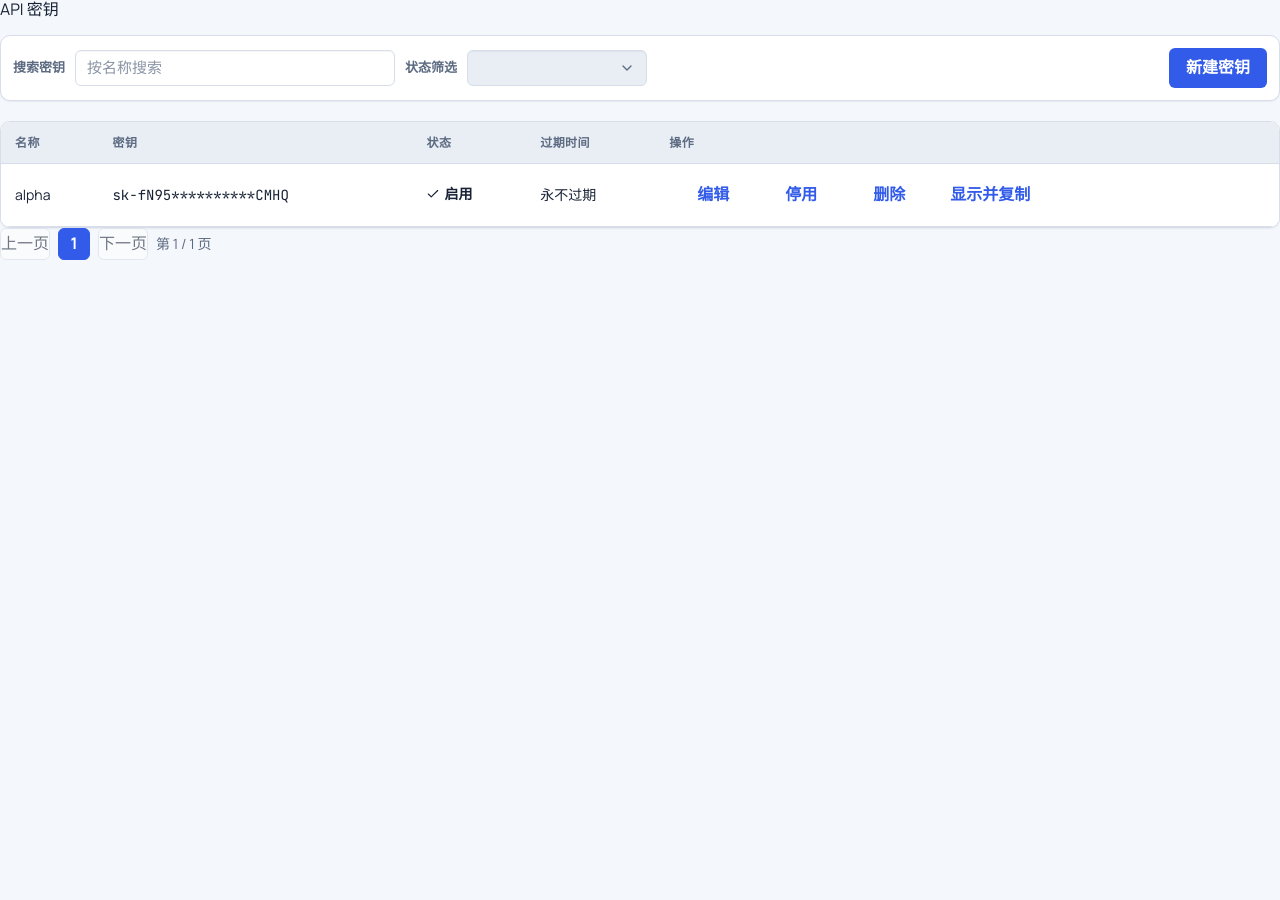
Test: API Key 创建与编辑对话 › 创建成功清除筛选回第一页并只提示一次
Check: the text "alpha" is shown, box x1=1 y1=164 x2=98 y2=227
Click the button "新建密钥" at (1218, 68), box x1=1169 y1=48 x2=1267 y2=88
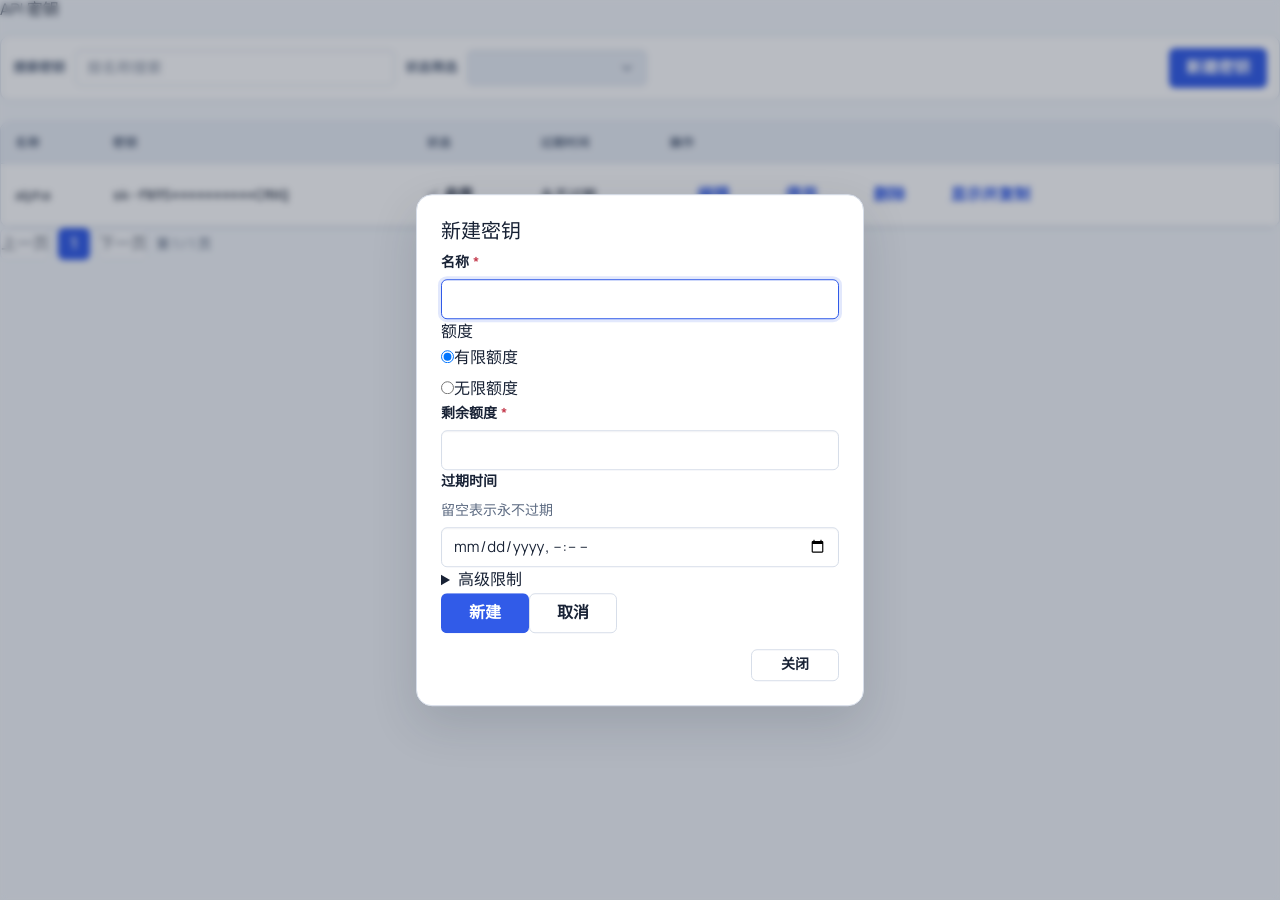
Type "beta" into the field labelled "名称" at (640, 299), box x1=441 y1=279 x2=839 y2=319
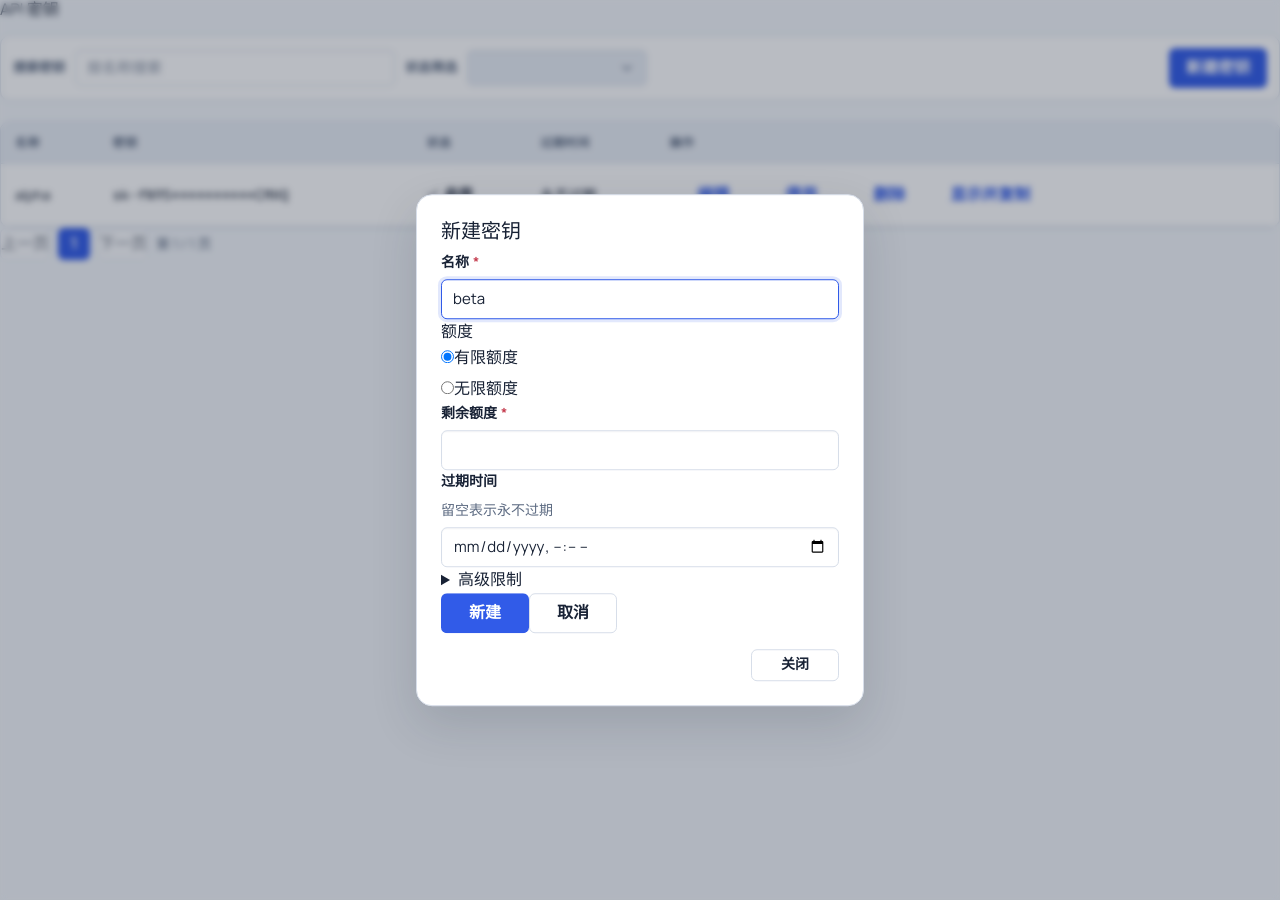
Type "50" into the field labelled "剩余额度" at (640, 450), box x1=441 y1=430 x2=839 y2=470
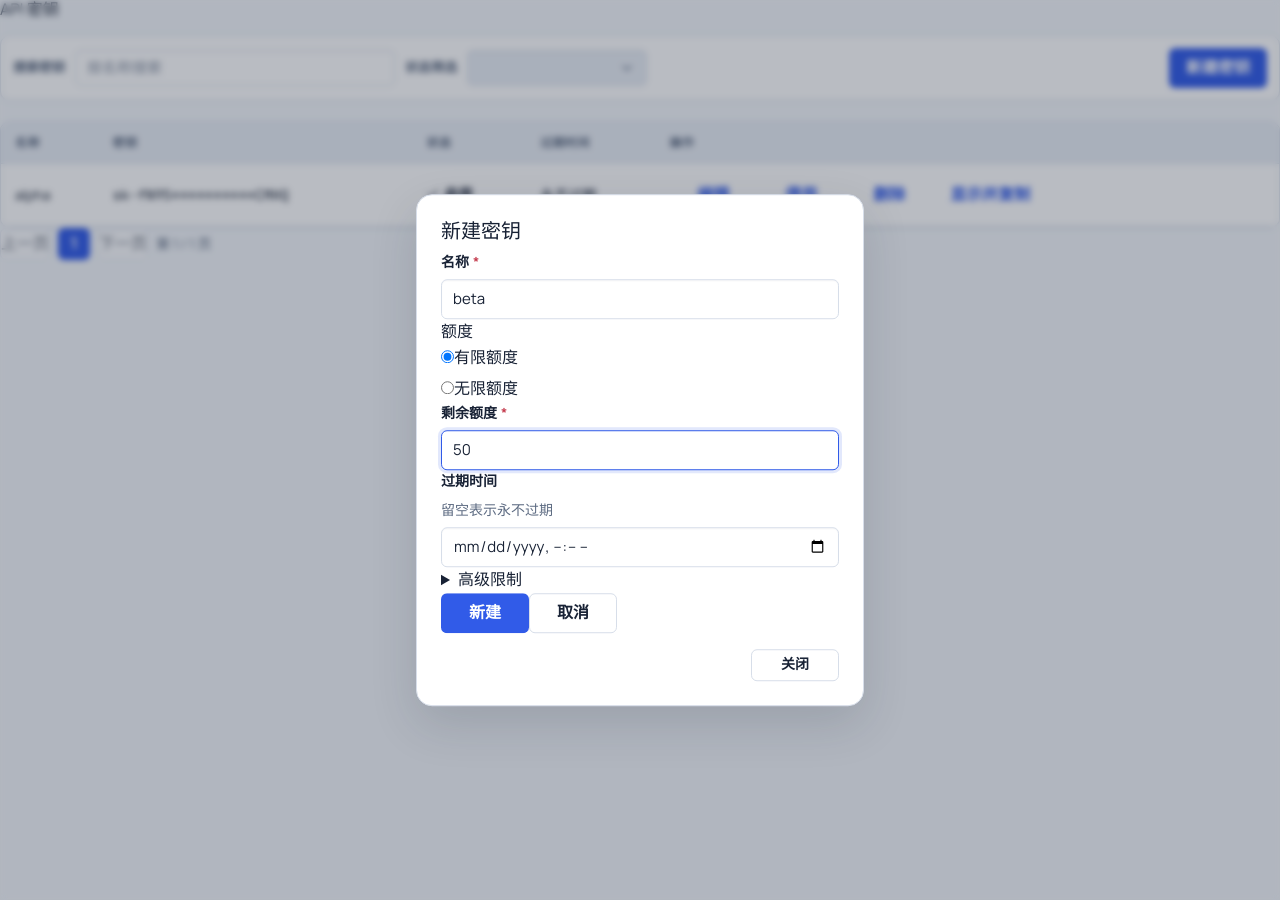
Click the button "新建" at (485, 613), box x1=441 y1=593 x2=529 y2=633
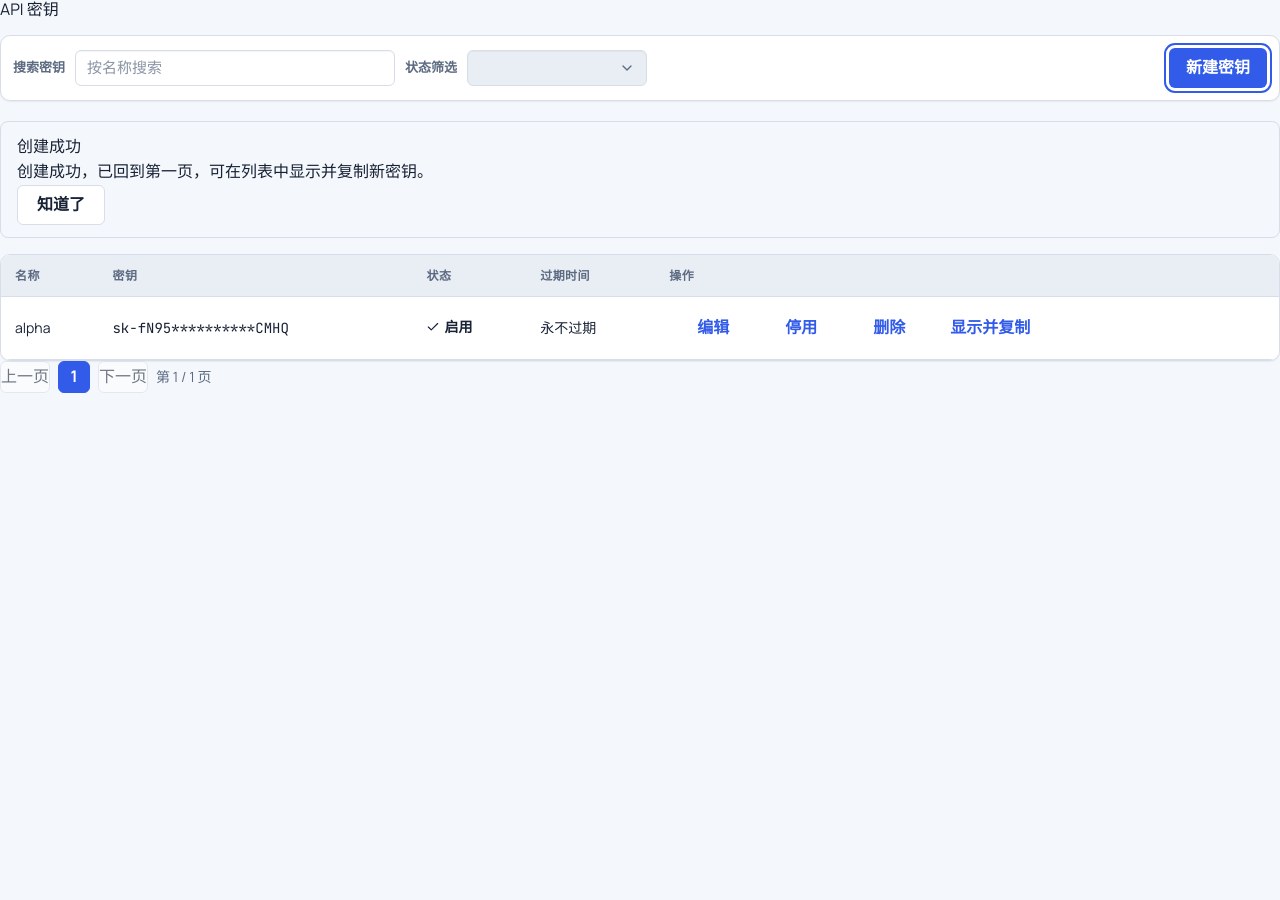
Check: the text "创建成功" is shown, box x1=17 y1=135 x2=81 y2=157
Click the button "知道了" at (61, 205), box x1=17 y1=185 x2=105 y2=225
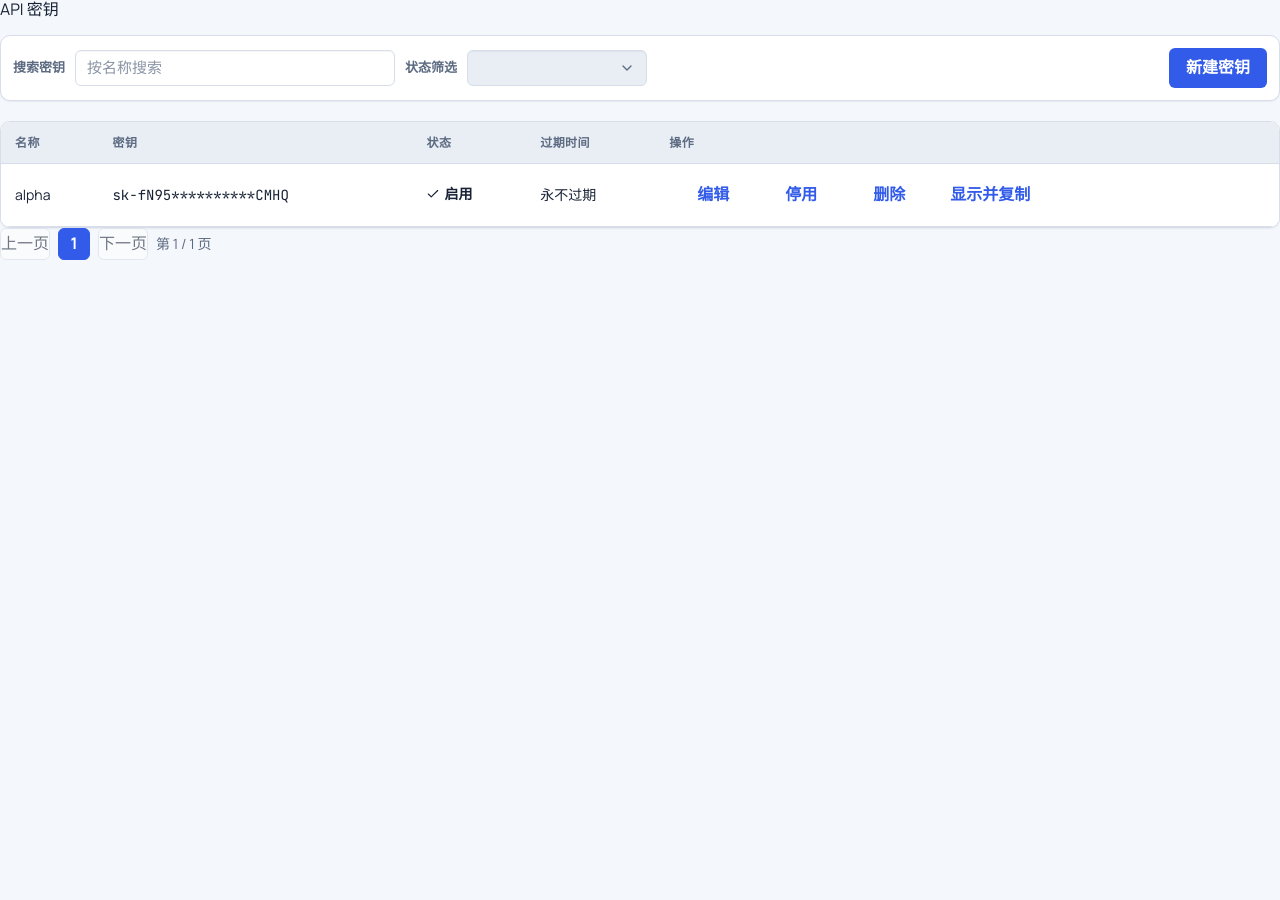
Check: the text "创建成功" is gone
